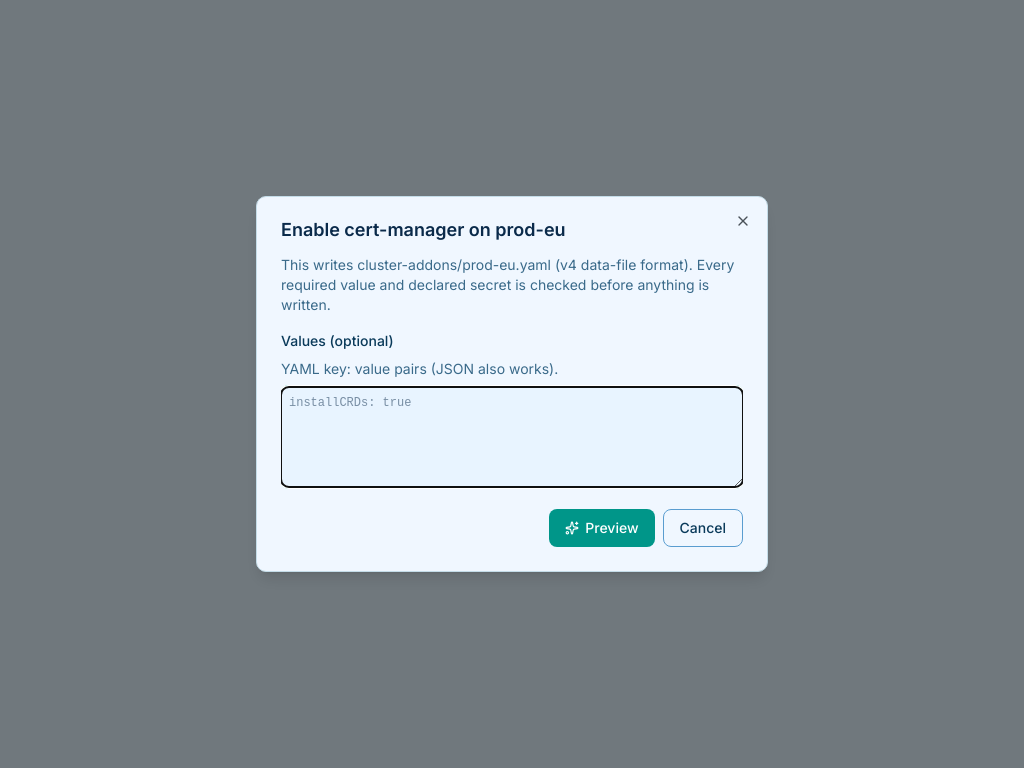
it: V4EnableAddonDialog › an "incomplete_entry" 422 shows the problems list and does NOT offer the catalog-gate combo
Click the button "Preview". click: (602, 528)
box: [549,509,655,547]
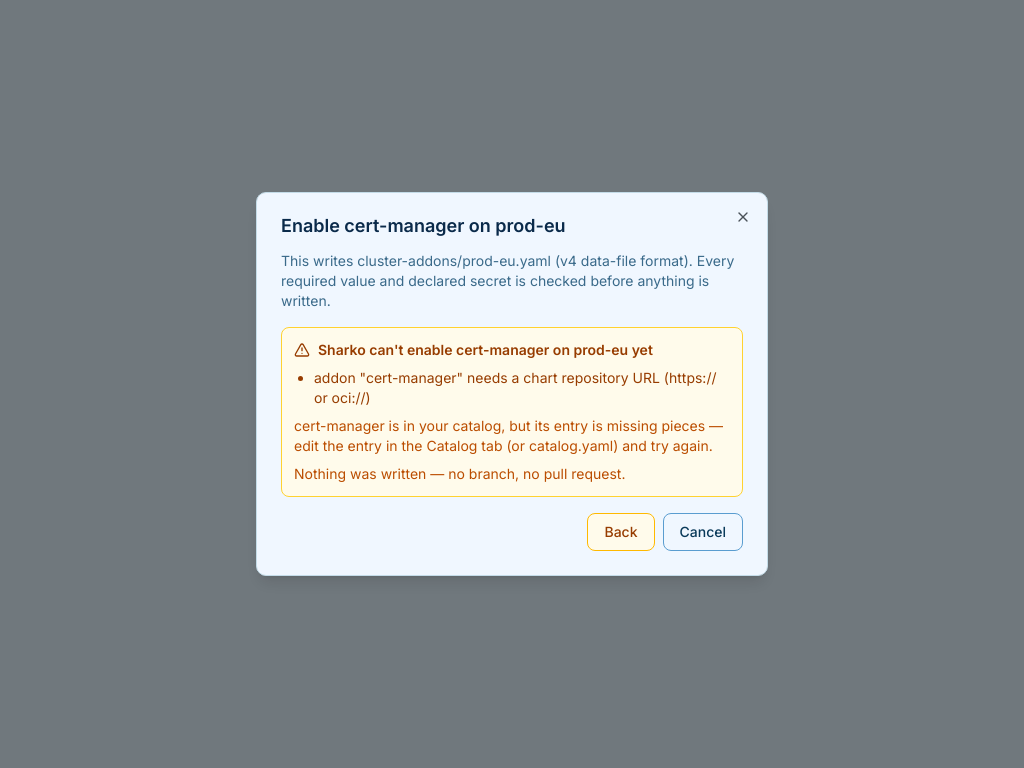
Expected: the element with test id "v4-problems" is shown, [281,327,743,497]
Expected: the list item "needs a chart repository URL" is shown, [314,369,716,406]
Expected: the text "is in your catalog, but its entry is missing pieces" is shown, [294,417,723,454]
